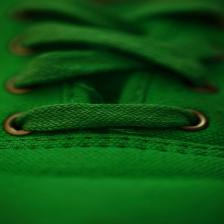green: (1, 0, 223, 179)
